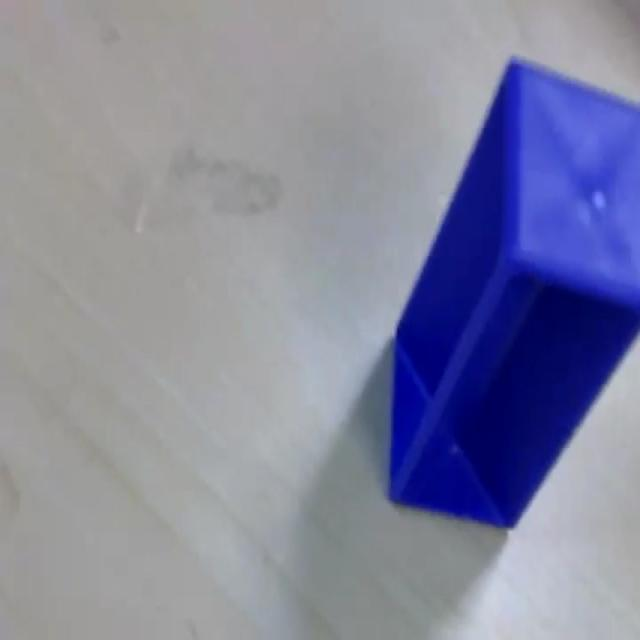blue_block: (386, 52, 638, 531)
